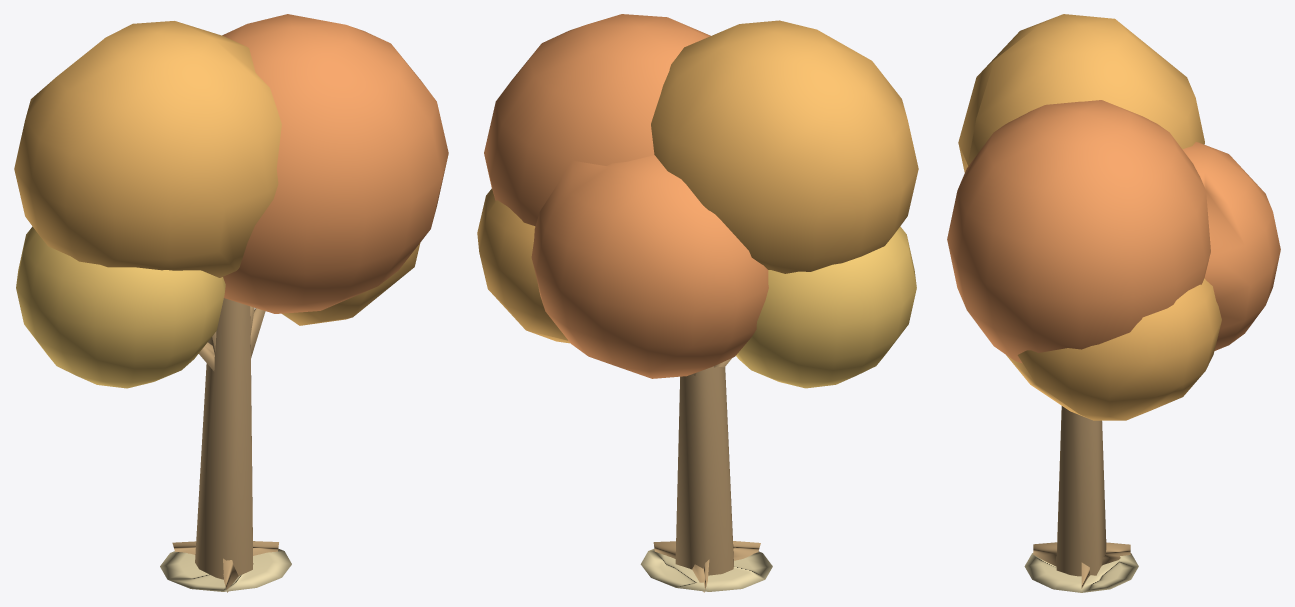
File: tree_v2_autumn_low.glb
The picture shows the model from 3 angles, left to right: view 1: azimuth 30°, elevation 25°; view 2: azimuth 150°, elevation 25°; view 3: azimuth 270°, elevation 25°; orthographic projection. The views are drawn at different scales.
Bounding box in the file's own units: 3.84 × 5.05 × 2.97.
